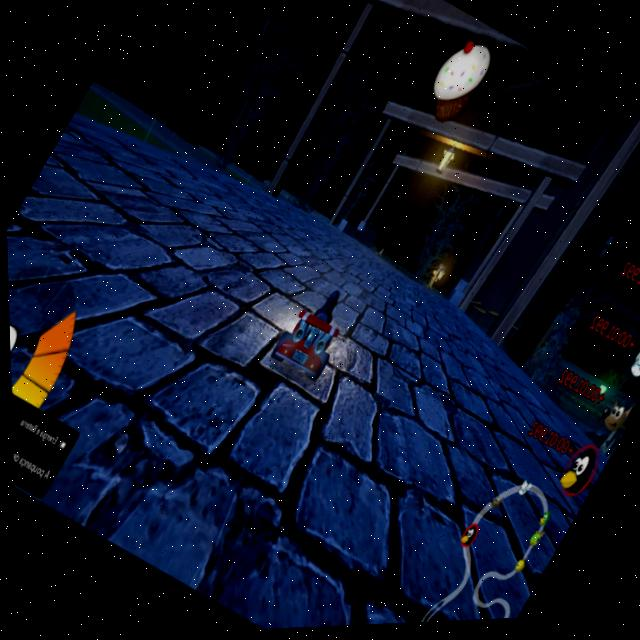player_kart: (256, 278, 363, 400)
track: (247, 191, 461, 345)
